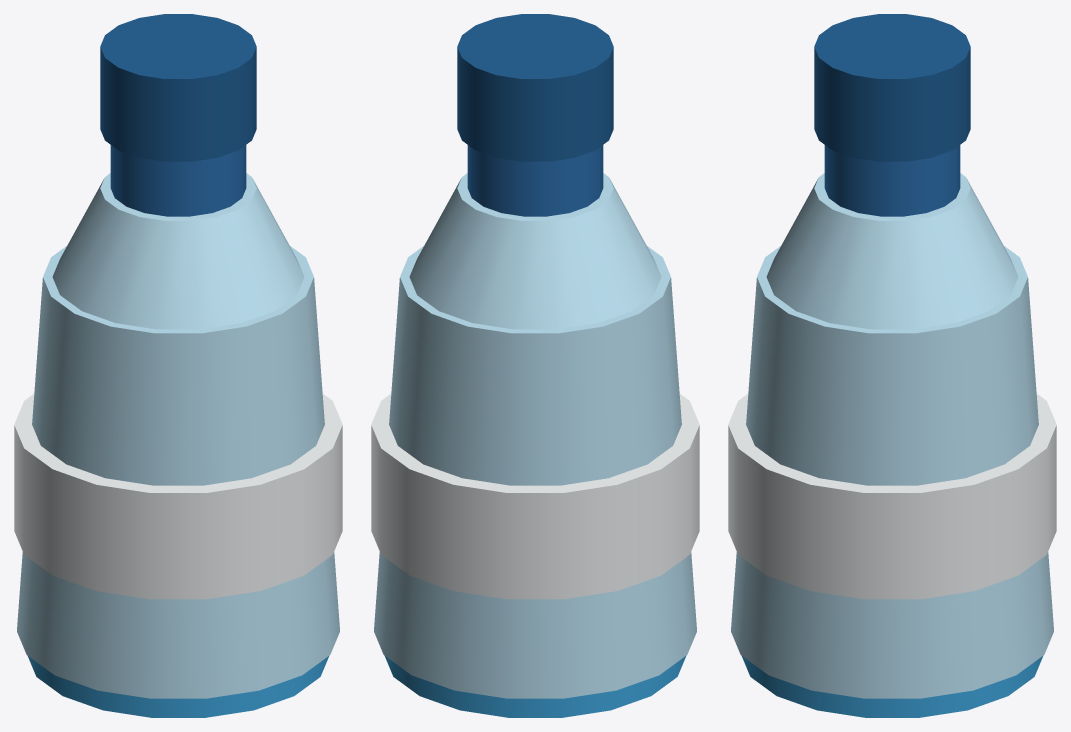
File: item_water.fbx
3 renders of one model, left to right at view 1: azimuth 30°, elevation 25°; view 2: azimuth 150°, elevation 25°; view 3: azimuth 270°, elevation 25°, orthographic.
Parts seen in each view (by area): view 1: M__item_water; view 2: M__item_water; view 3: M__item_water.
Part boxes in pixels (<box>): M__item_water: <box>14,14,342,717</box>; M__item_water: <box>371,14,699,717</box>; M__item_water: <box>728,14,1056,717</box>.
Size of the model in its own units: 0.1241 by 0.2575 by 0.126.
